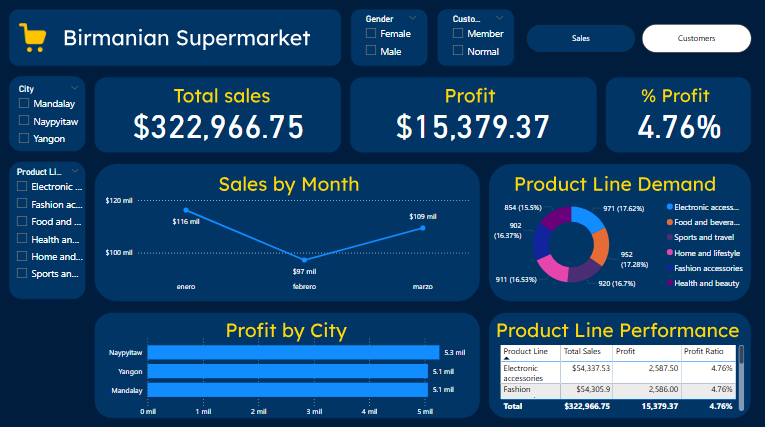

Layout of this report page (visuals, bound fields, positions):
{"tool":"powerbi","page":{"name":"Sales","canvas":[1280,720],"ordinal":0},"visuals":[{"type":"card","title":"Total Sales","fields":{"Values":["supermarket_sales.suma_total"]},"box":[207.2,169,318.9,77.9],"z":0},{"type":"lineChart","title":"Sales by Month","fields":{"Category":["supermarket_sales.Date.Variación.Jerarquía de fechas.Mes"],"Y":["supermarket_sales.suma_total"]},"box":[171.9,323.3,618.6,174.9],"z":1000},{"type":"card","title":"Profit","fields":{"Values":["supermarket_sales.suma_gross_income"]},"box":[640.7,167.5,298.3,79.3],"z":2000},{"type":"card","title":"Profit Ratio","fields":{"Values":["supermarket_sales.rentabilidad"]},"box":[1040.3,167.5,188.1,79.3],"z":3000},{"type":"pageNavigator","box":[878.7,42.6,377.6,48.5],"z":4000},{"type":"tableEx","title":"Porduct Line Performance","fields":{"Values":["supermarket_sales.Product_line","supermarket_sales.suma_total","supermarket_sales.suma_gross_income","supermarket_sales.rentabilidad"]},"box":[830.2,573.1,417.3,120.5],"z":5000},{"type":"slicer","fields":{"Values":["supermarket_sales.City"]},"box":[19.6,137.5,125,119.6],"z":6000},{"type":"slicer","fields":{"Values":["supermarket_sales.Gender"]},"box":[598,22,110.2,89.6],"z":7000},{"type":"slicer","fields":{"Values":["supermarket_sales.Product_line"]},"box":[16.1,276.8,128.6,221.4],"z":8000},{"type":"donutChart","fields":{"Category":["supermarket_sales.Product_line"],"Y":["supermarket_sales.suma_cantidad"]},"box":[790.5,323.3,464.3,174.9],"z":9000},{"type":"slicer","fields":{"Values":["supermarket_sales.Customer_type"]},"box":[743.5,22,110.2,89.6],"z":10000},{"type":"clusteredBarChart","fields":{"Category":["supermarket_sales.City"],"Y":["supermarket_sales.suma_gross_income"]},"box":[171.9,554,627.4,154.3],"z":11000}]}

Visuals, with their boxes in screenshot pixels (x1, y1, x2, y2), scaled from the page's 1280x720 canvas onto the 765x427 screenshot:
"Total Sales" card: <region>124, 100, 314, 146</region>
"Sales by Month" lineChart: <region>103, 192, 472, 295</region>
"Profit" card: <region>383, 99, 561, 146</region>
"Profit Ratio" card: <region>622, 99, 734, 146</region>
pageNavigator: <region>525, 25, 751, 54</region>
"Porduct Line Performance" tableEx: <region>496, 340, 746, 411</region>
slicer - supermarket_sales.City: <region>12, 82, 86, 152</region>
slicer - supermarket_sales.Gender: <region>357, 13, 423, 66</region>
slicer - supermarket_sales.Product_line: <region>10, 164, 86, 295</region>
donutChart - supermarket_sales.Product_line x supermarket_sales.suma_cantidad: <region>472, 192, 750, 295</region>
slicer - supermarket_sales.Customer_type: <region>444, 13, 510, 66</region>
clusteredBarChart - supermarket_sales.City x supermarket_sales.suma_gross_income: <region>103, 329, 478, 420</region>
